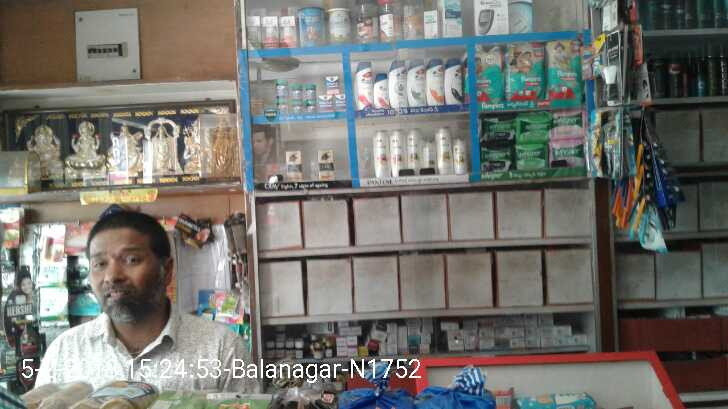vicks: (269, 71, 349, 128)
